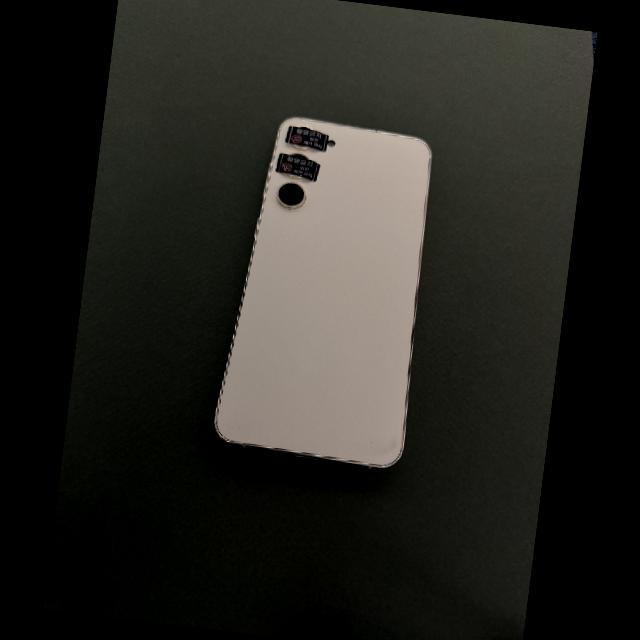lens: (278, 183, 305, 208), (290, 153, 308, 160), (291, 145, 312, 150)
phone: (214, 117, 430, 468)
sticker: (275, 153, 320, 181), (284, 126, 328, 153)
